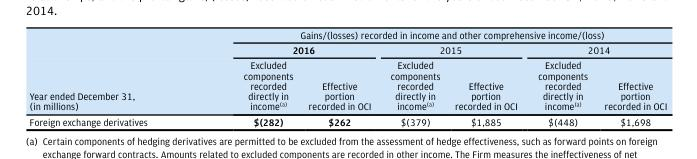table: (28, 29, 666, 127)
table column: (28, 29, 194, 127), (194, 29, 300, 127), (446, 29, 527, 127), (300, 29, 380, 127), (595, 29, 666, 127), (527, 29, 595, 127), (380, 29, 446, 127)
table column header: (28, 29, 666, 113)
table row: (28, 57, 666, 113), (28, 42, 666, 57), (28, 113, 666, 127), (28, 29, 666, 42)
table spanning cell: (28, 29, 194, 113), (194, 29, 666, 42), (194, 42, 380, 57), (380, 42, 527, 57), (527, 42, 666, 57)
